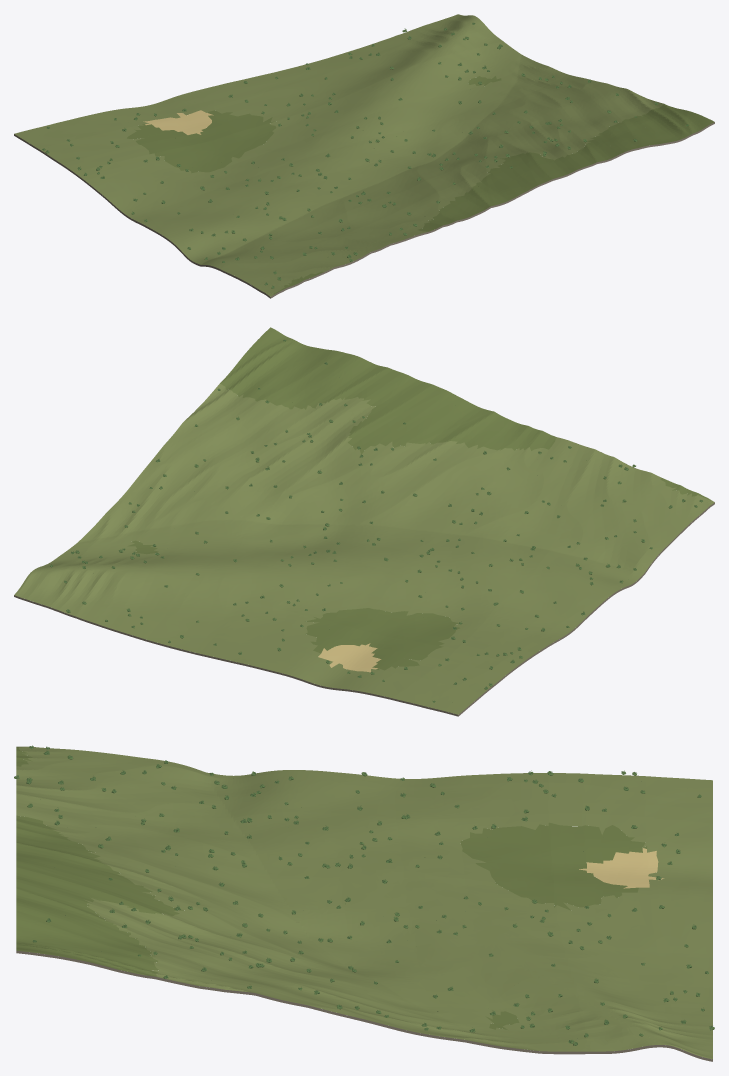
The model's file is parca_+4_-4-yakin.glb.
3 views of the same model, one above another, from view 1: azimuth 30°, elevation 25°; view 2: azimuth 150°, elevation 25°; view 3: azimuth 270°, elevation 25° (orthographic). The views are drawn at different scales.
Parts seen in each view (by area): view 1: parca_+4_-4_arazi, parca_+4_-4_bitkiler; view 2: parca_+4_-4_arazi, parca_+4_-4_bitkiler; view 3: parca_+4_-4_arazi, parca_+4_-4_bitkiler.
Boxes of the visible parts, bbox=[...] form: parca_+4_-4_arazi: bbox=[14, 14, 714, 298]; parca_+4_-4_bitkiler: bbox=[42, 22, 688, 288]; parca_+4_-4_arazi: bbox=[14, 327, 714, 716]; parca_+4_-4_bitkiler: bbox=[50, 340, 702, 702]; parca_+4_-4_arazi: bbox=[16, 746, 712, 1061]; parca_+4_-4_bitkiler: bbox=[14, 745, 714, 1045].
Size of the model in its own units: 1003 by 210 by 1006.
